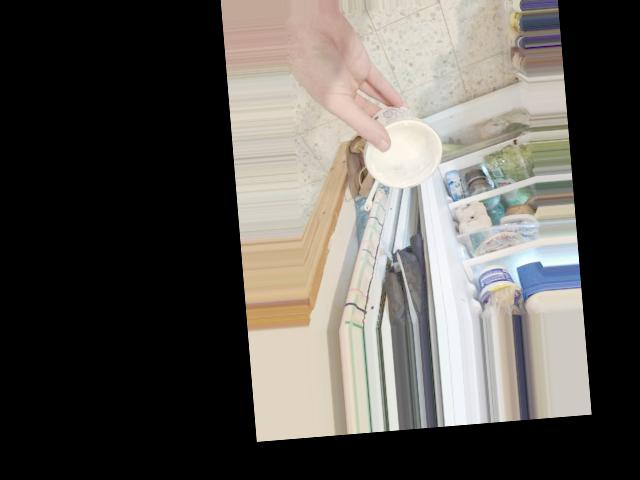cotage: (357, 104, 431, 194)
